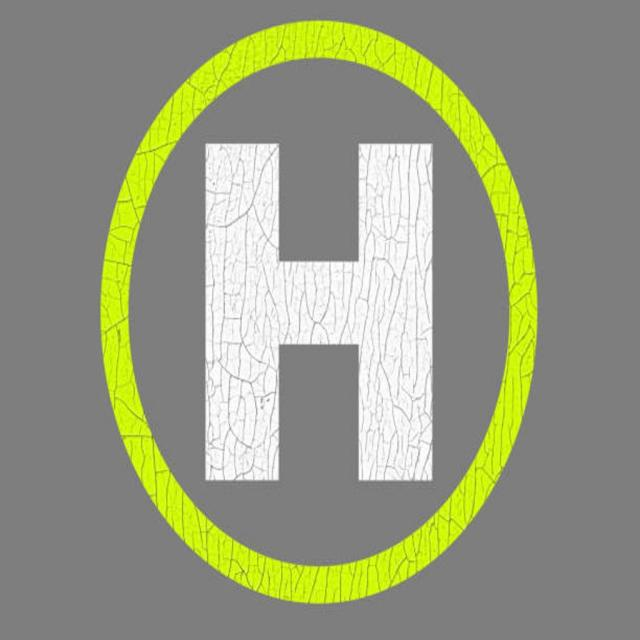helipad: (94, 18, 544, 606)
